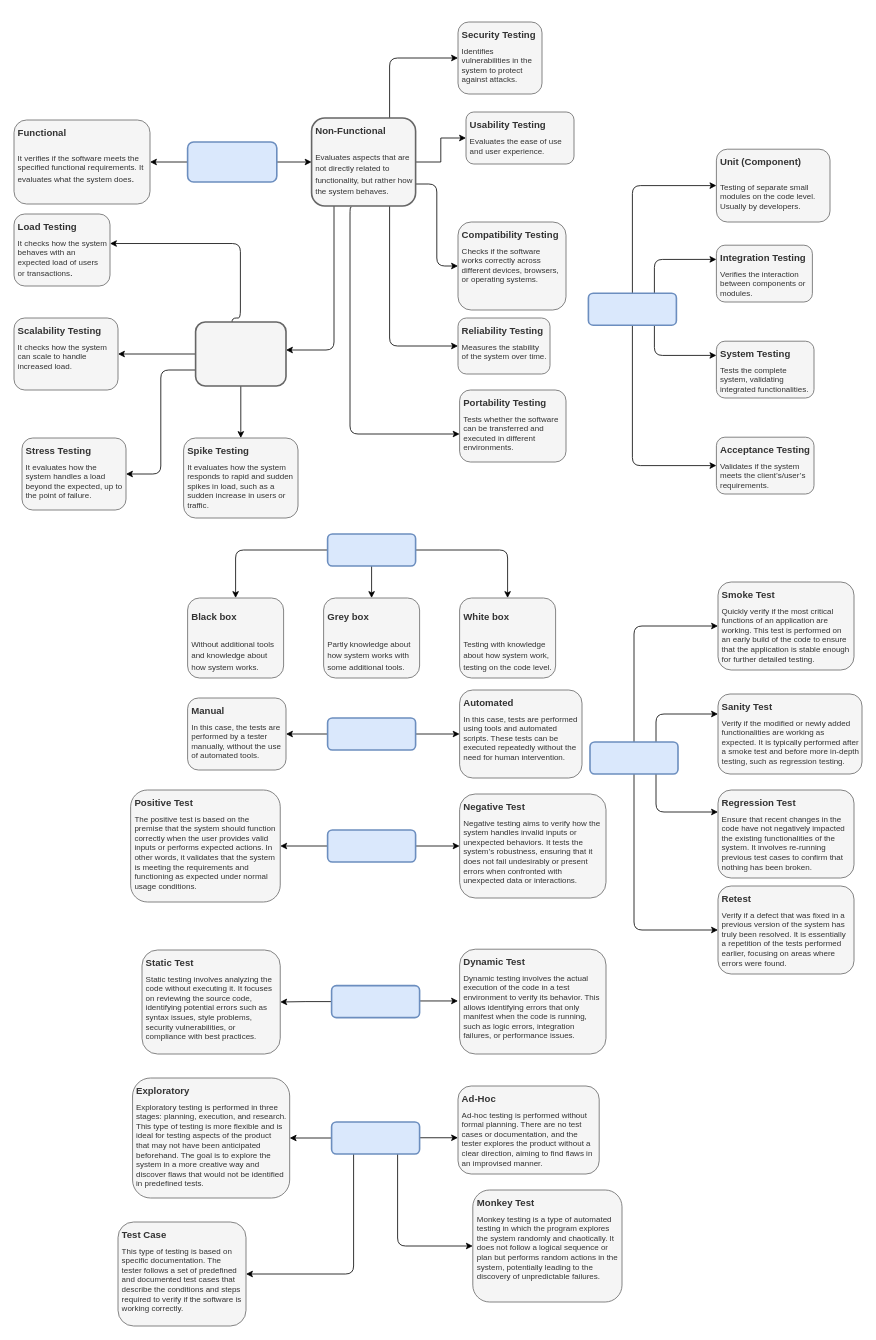
The diagram is 876 pixels wide and 1340 high, and some of its shapes have lost their labels. The centre of each missing label's shape, as x and y in pixels:
"Basis of Scenarios" belongs at (371,845).
"Code execution status" belongs at (375,1001).
"Degree of Automation" belongs at (371,733).
"Knowledge of the System" belongs at (371,549).
"Level of Preparation" belongs at (375,1137).
"Levels of the Testing" belongs at (632,309).
"Object of Testing" belongs at (231,161).
"Performance It measures response time, scalability, and stability under load." belongs at (240,353).
"Related to Changes" belongs at (633,757).
